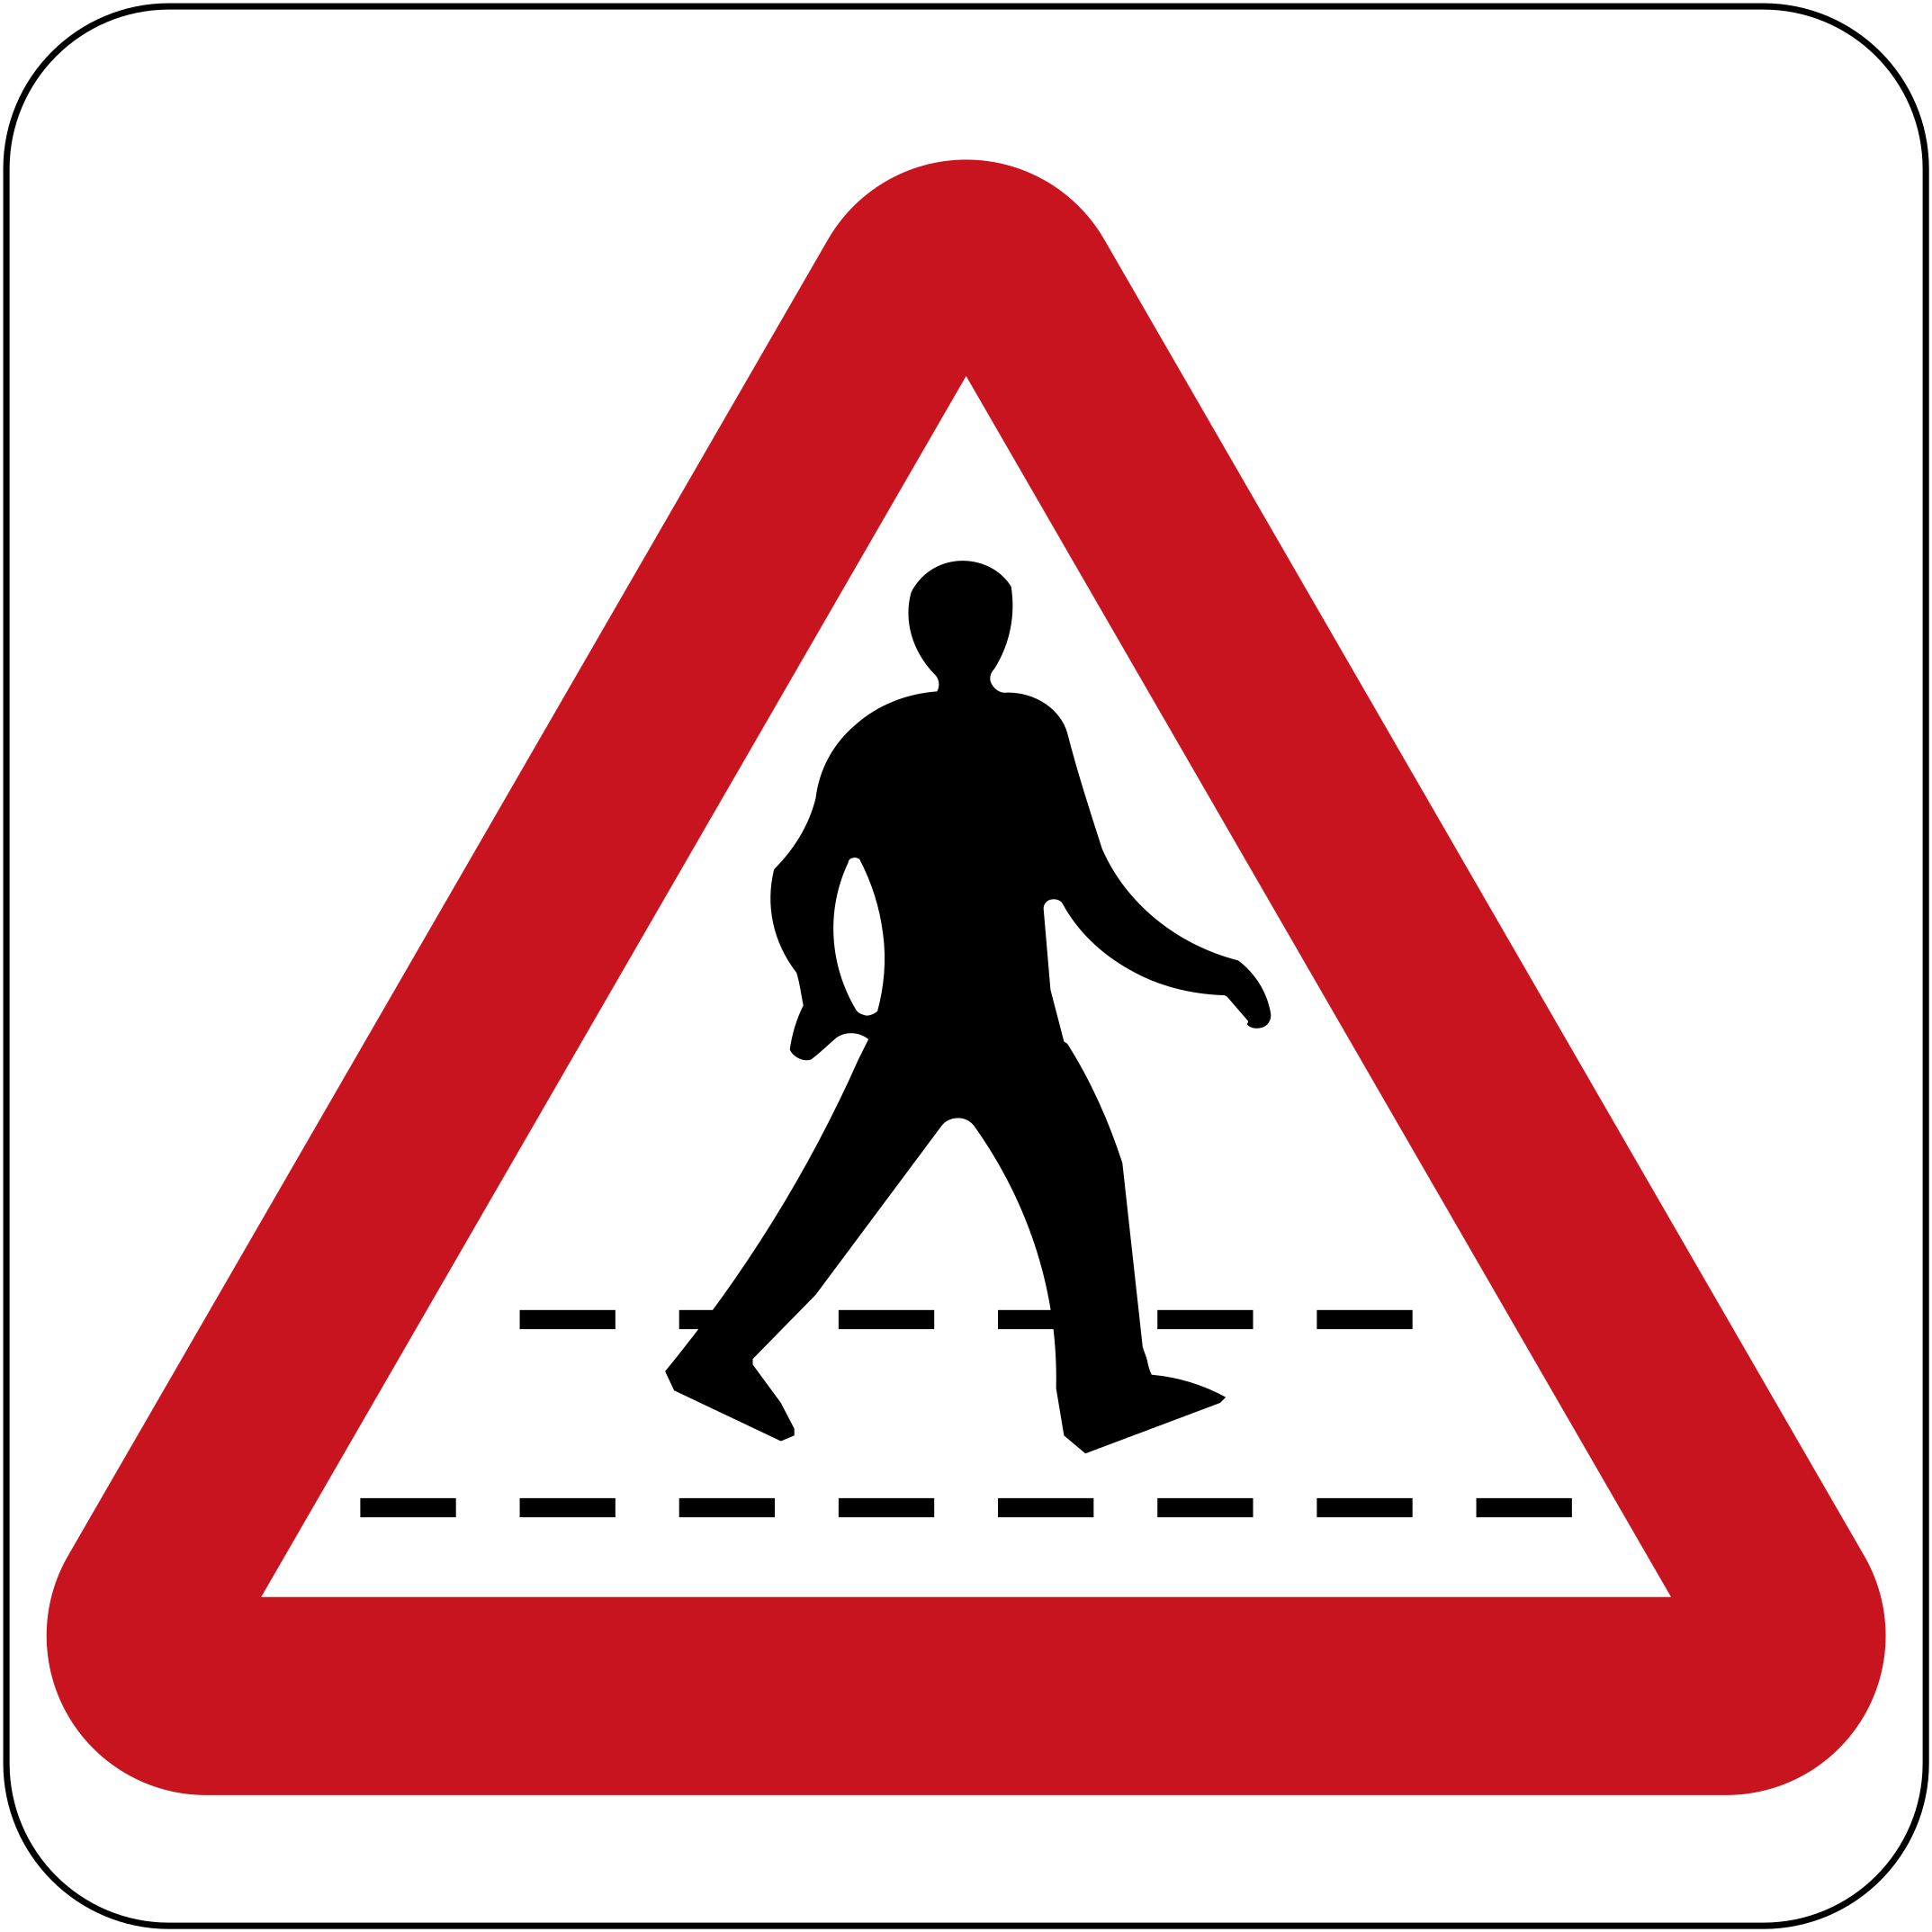pedestrian: (248, 334, 1686, 1704)
